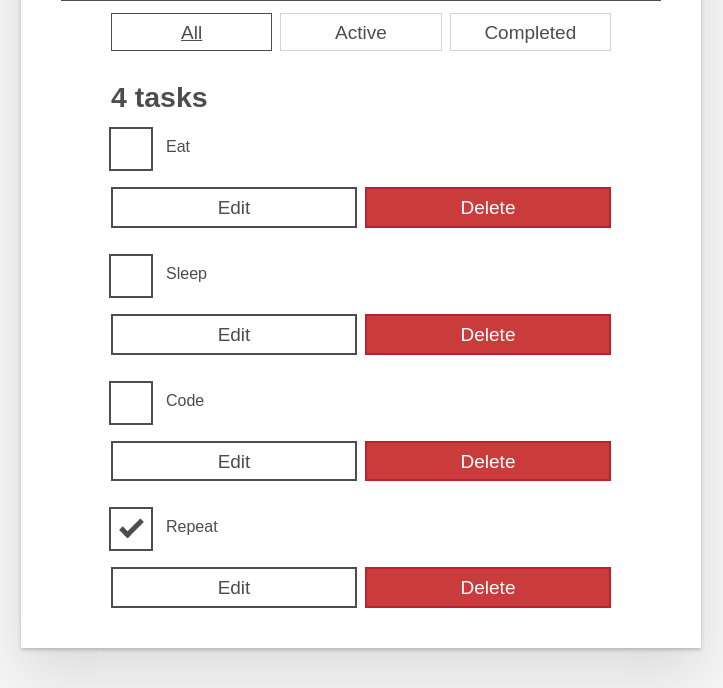
Editing a task › Editing and renaming a task in the todo list
This screenshot has width=723, height=688.
(page scrolled)
Click the button with test id "start-edit-button" below "Code". click: click(234, 462)
box: [111,441,357,482]
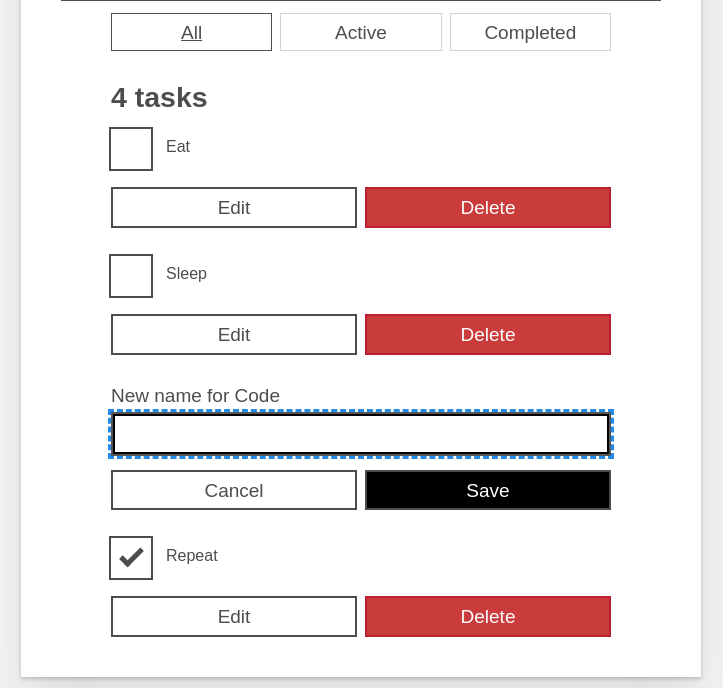
Type "Read a book" into the field with test id "edit-task-input". click: (361, 434)
box: [111,412,611,456]
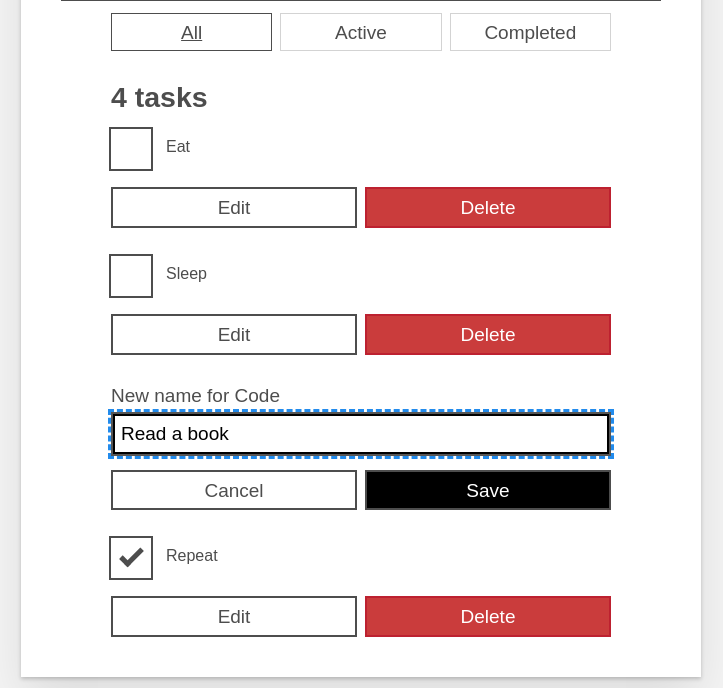
Click the button with test id "submit-edit-button". click: click(488, 491)
box: [365,470,611,511]
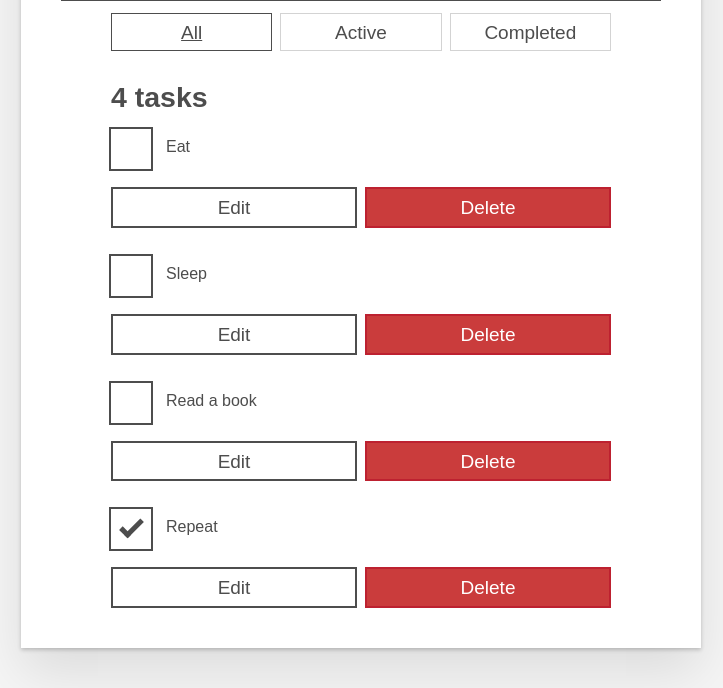
Expected: the checkbox "Read a book" is shown, [166,392,257,409]
